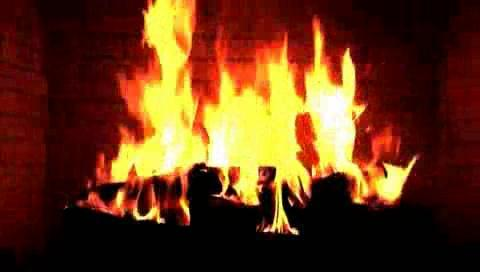fire: (109, 18, 399, 218)
